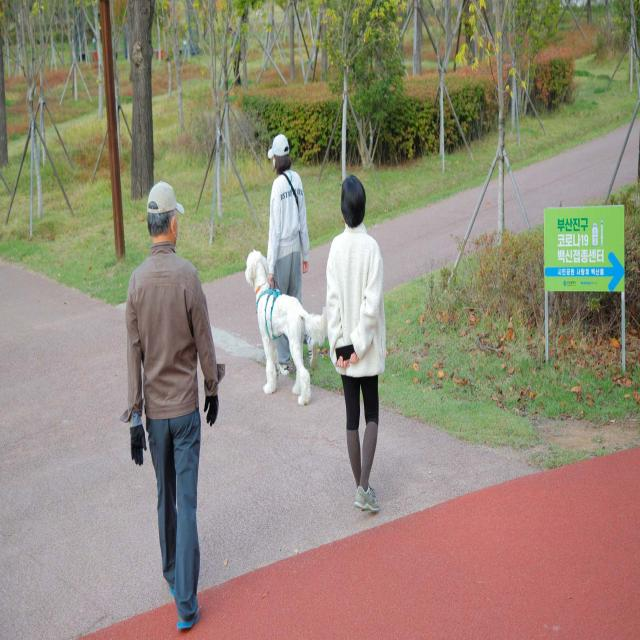Leashed_Dog: (245, 248, 327, 406)
